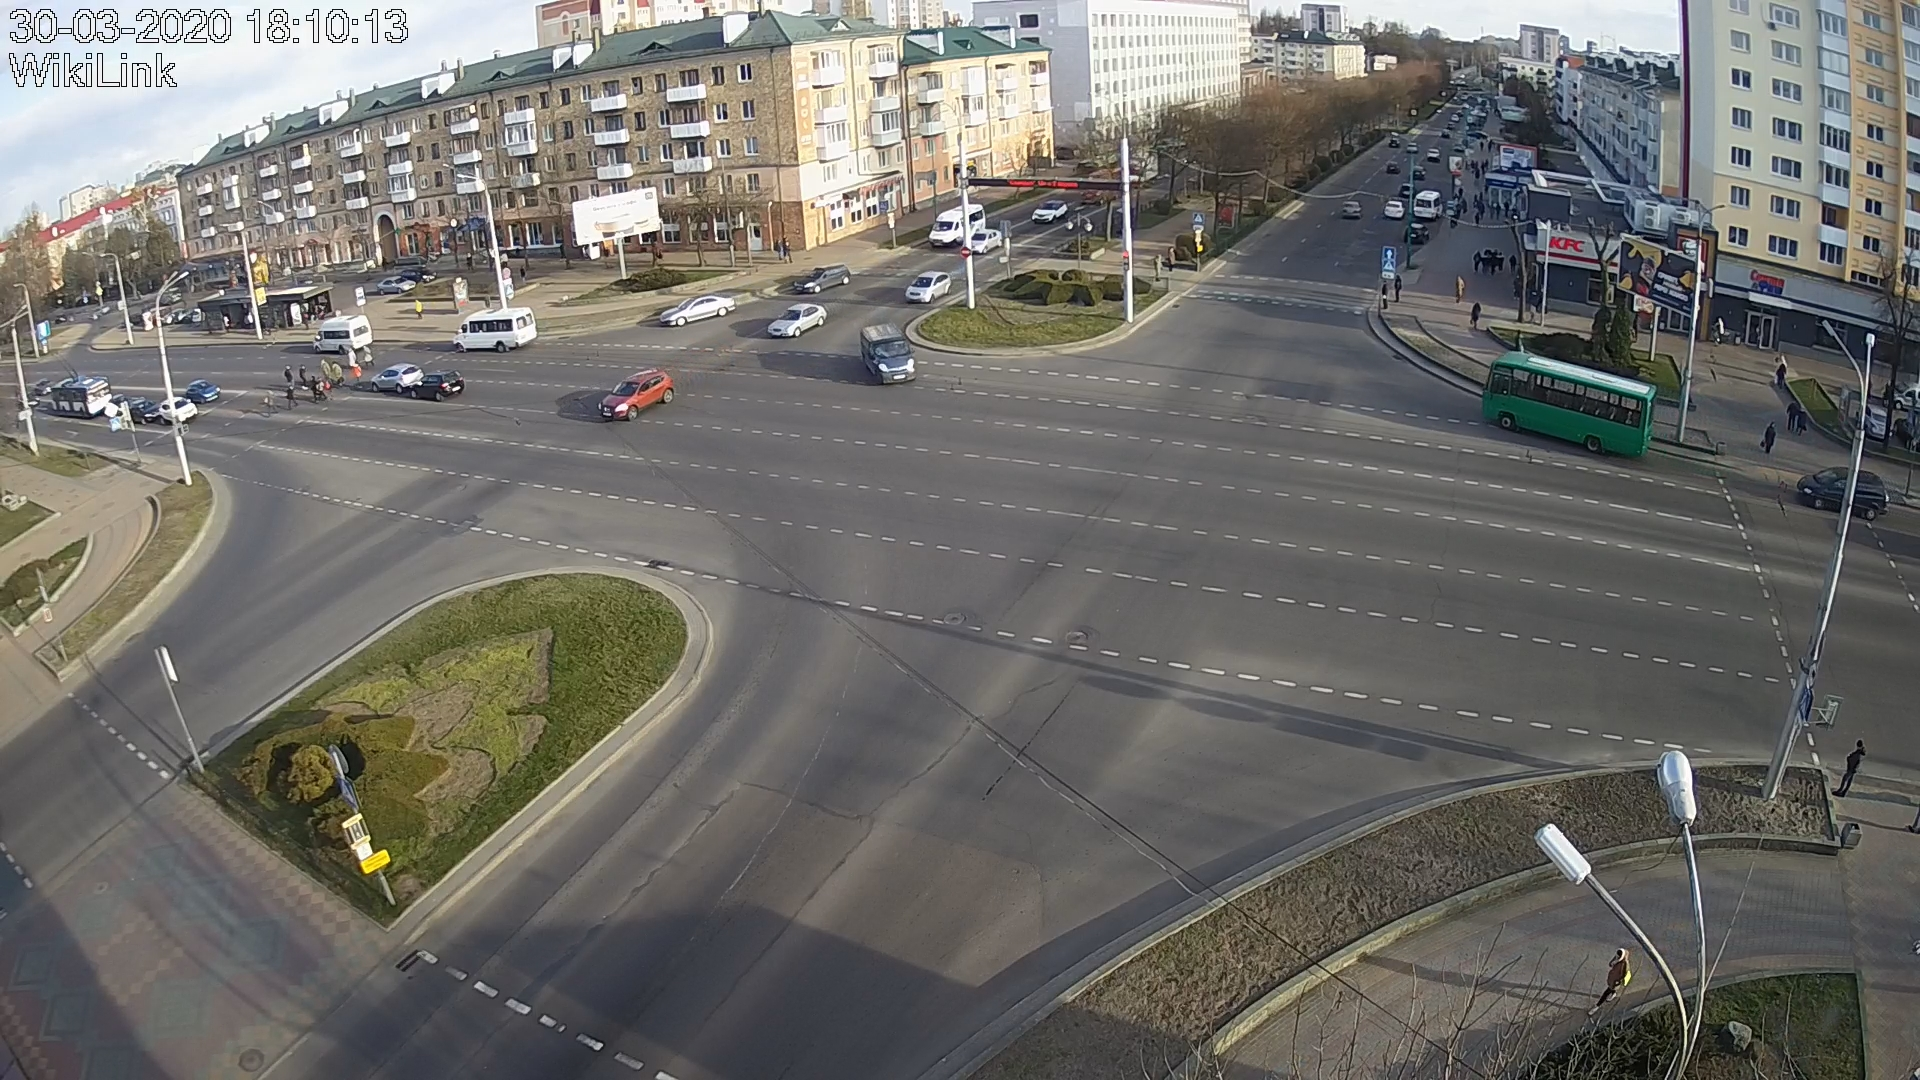bus: (1481, 351, 1658, 462), (51, 376, 112, 417)
car: (1797, 465, 1888, 521), (597, 367, 674, 422), (454, 306, 538, 352), (860, 320, 916, 385), (928, 202, 986, 247), (659, 294, 735, 327), (313, 314, 373, 353), (767, 302, 827, 338), (793, 262, 851, 293), (410, 369, 465, 401), (371, 363, 425, 394), (905, 270, 952, 305), (160, 396, 198, 426), (971, 225, 1004, 252), (186, 378, 220, 404), (129, 400, 161, 425), (1033, 199, 1067, 222)
